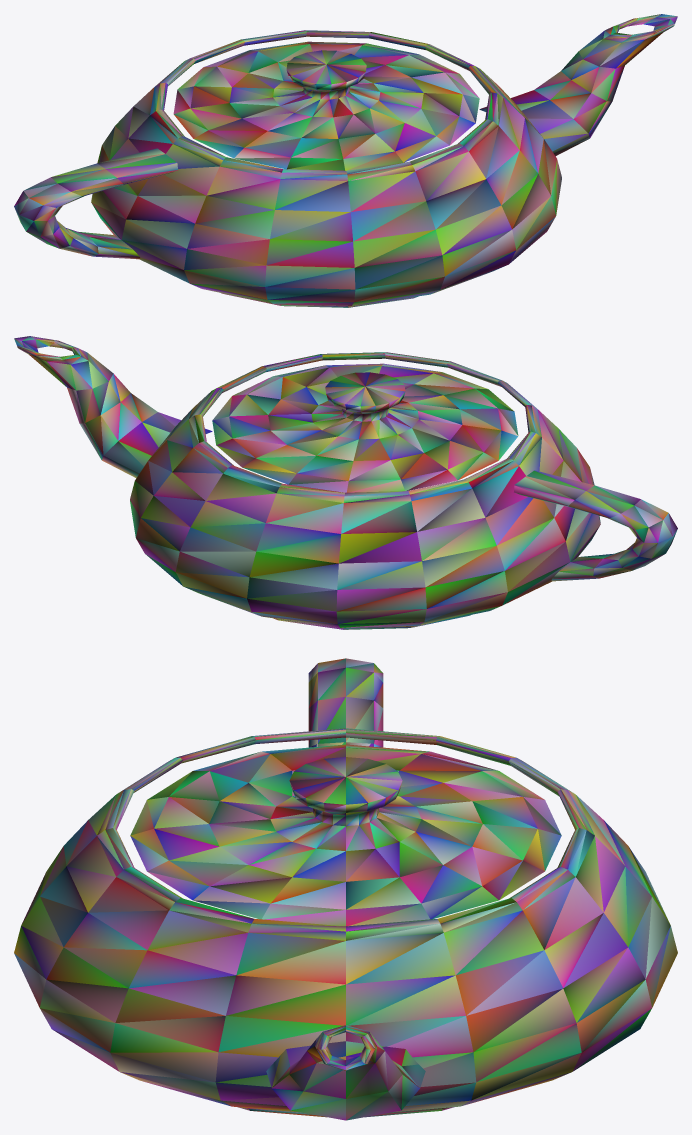
The model's file is Teapot.gltf.
3 renders of one model, top to bottom at view 1: azimuth 30°, elevation 25°; view 2: azimuth 150°, elevation 25°; view 3: azimuth 270°, elevation 25°, orthographic. The views are drawn at different scales.
Visible parts, largest first — view 1: teapot; view 2: teapot; view 3: teapot.
Boxes of the visible parts, bbox=[...] form: teapot: bbox=[14, 14, 677, 307]; teapot: bbox=[14, 336, 677, 629]; teapot: bbox=[14, 658, 677, 1120].
Bounding box in the file's own units: 16.07 × 4.09 × 10.
